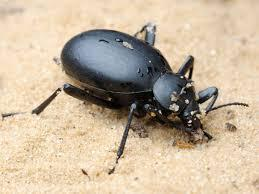insect: (31, 21, 252, 165)
